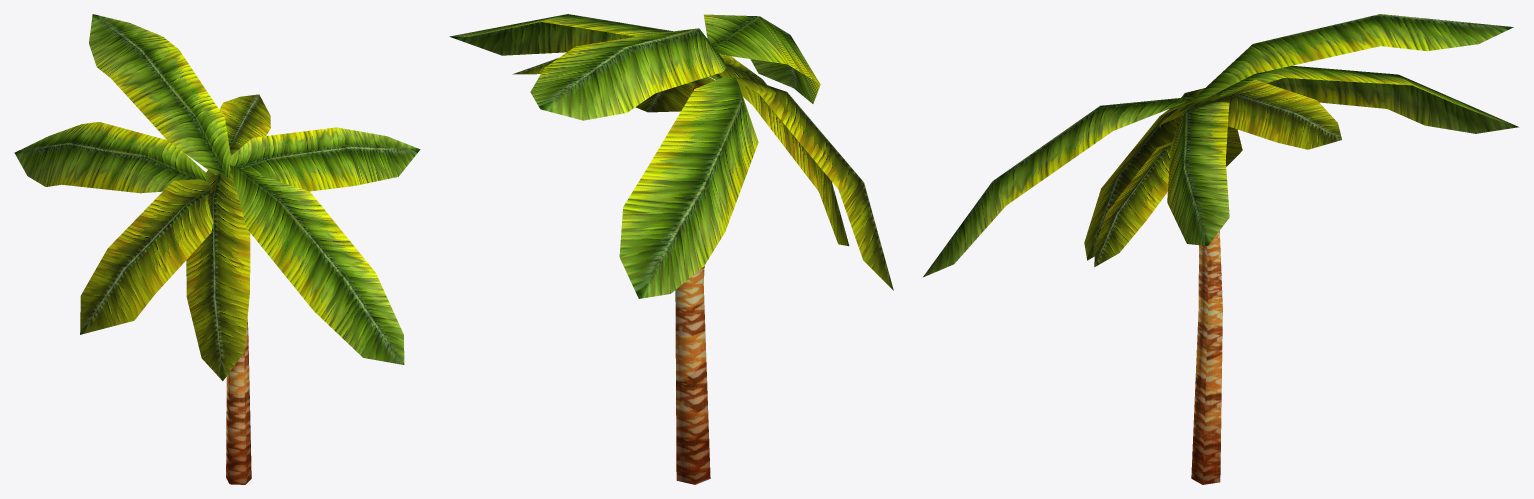
Rendered from bch_palm1.fbx.
3 renders of one model, left to right at view 1: azimuth 30°, elevation 25°; view 2: azimuth 150°, elevation 25°; view 3: azimuth 270°, elevation 25°, orthographic. The views are drawn at different scales.
Parts seen in each view (by area): view 1: palm1; view 2: palm1; view 3: palm1.
Part boxes in pixels (x1,y1,x2,y2): palm1: (14, 14, 420, 484); palm1: (449, 14, 893, 484); palm1: (923, 14, 1518, 484).
Bounding box in the file's own units: 508 × 551 × 661.
